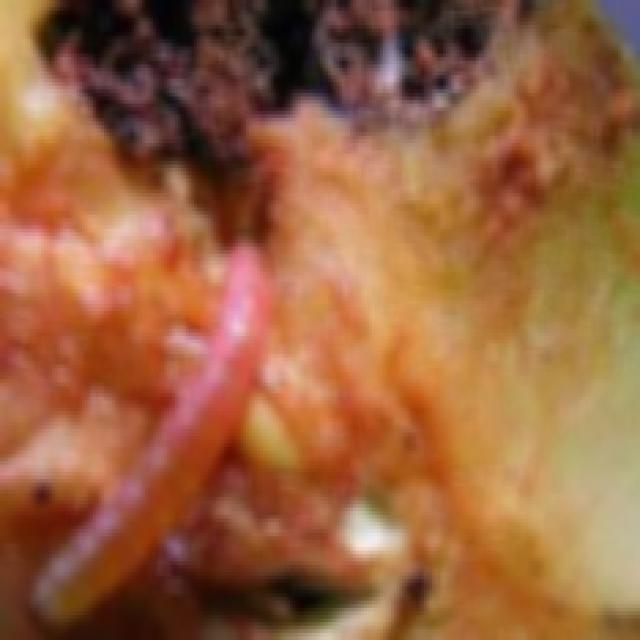peach borer: (22, 232, 282, 629)
